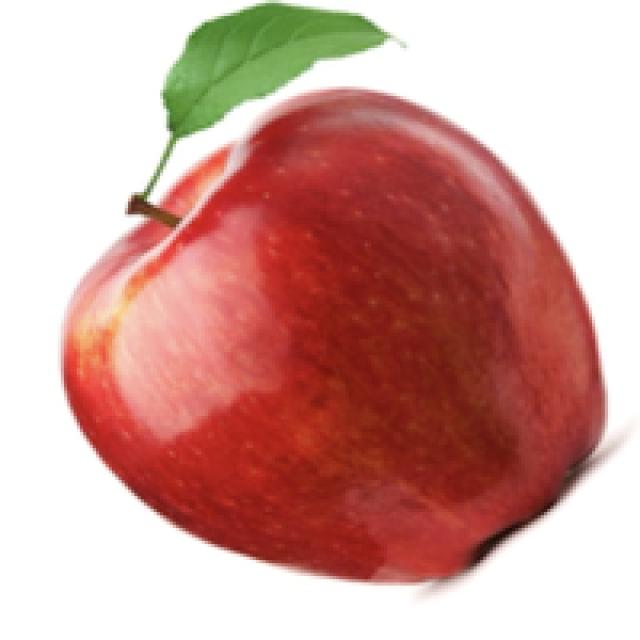apple: (54, 0, 634, 605)
